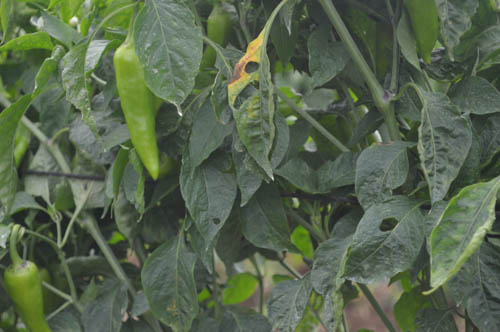ChiliPepper: (115, 46, 159, 179), (8, 264, 43, 332)
